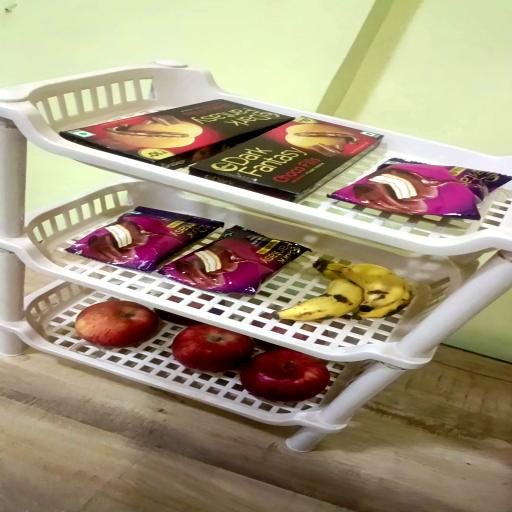Apple: (241, 349, 330, 402), (74, 300, 157, 348), (174, 325, 256, 371), (156, 309, 201, 326)
Choco Fills: (191, 120, 383, 205), (60, 99, 293, 168)
Choco Pie: (329, 160, 510, 222), (158, 226, 309, 295), (63, 209, 223, 274)
